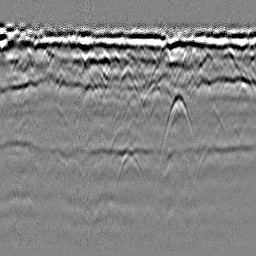cavity: (117, 61, 139, 92)
